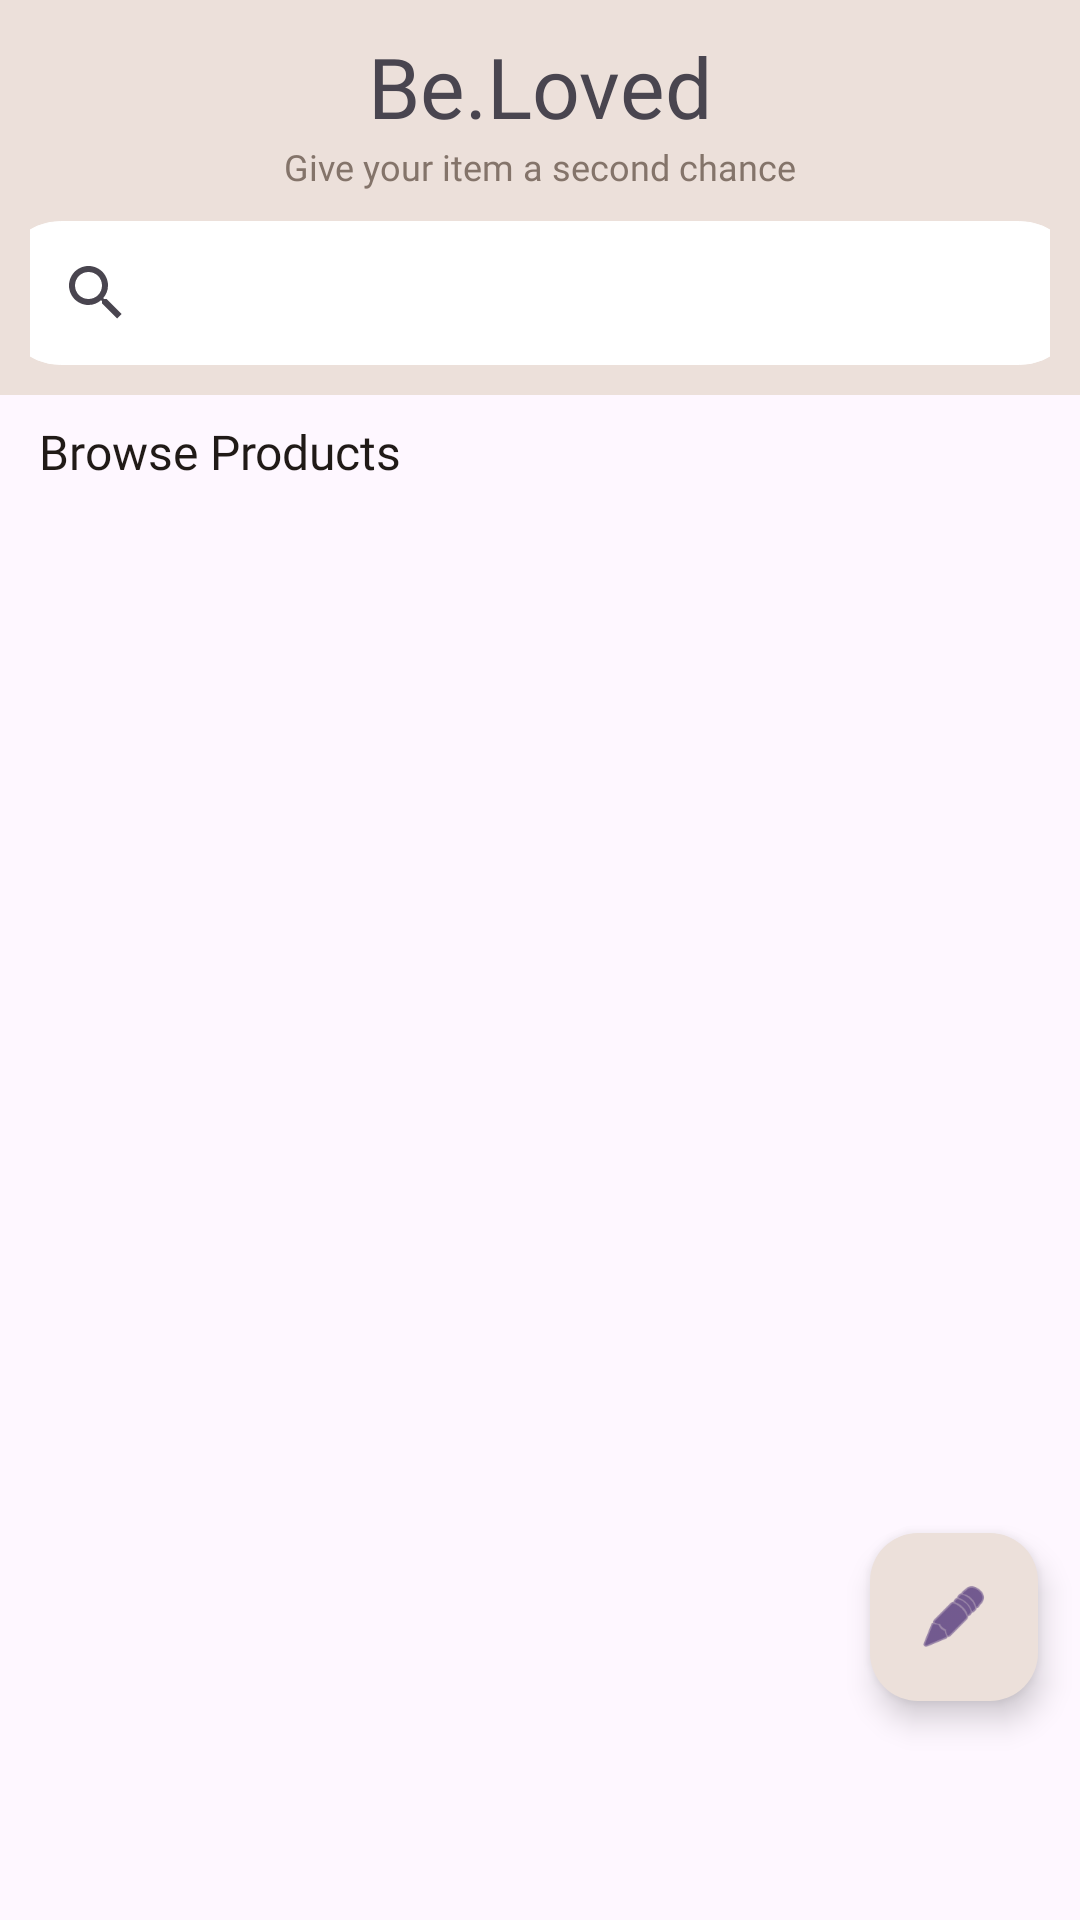

Where icons sit on this 1080*1920 app screen, as (x1, y1, x2, y2):
Create new post: (870, 1533, 1038, 1701)
